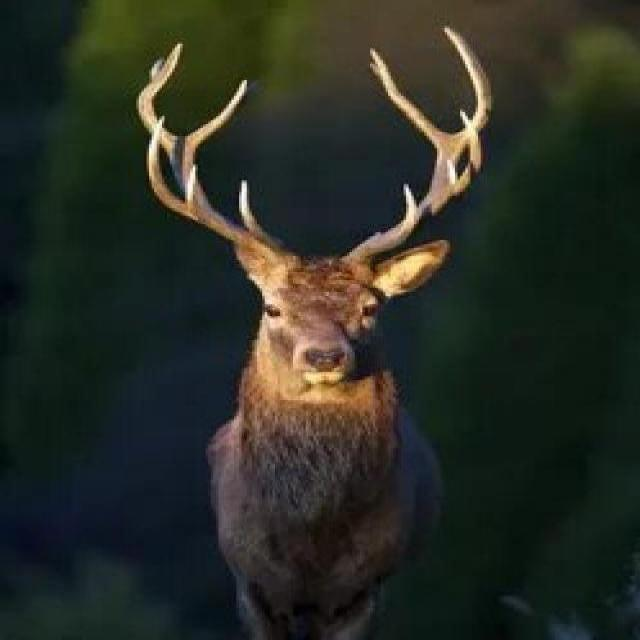deer: (80, 64, 564, 592)
